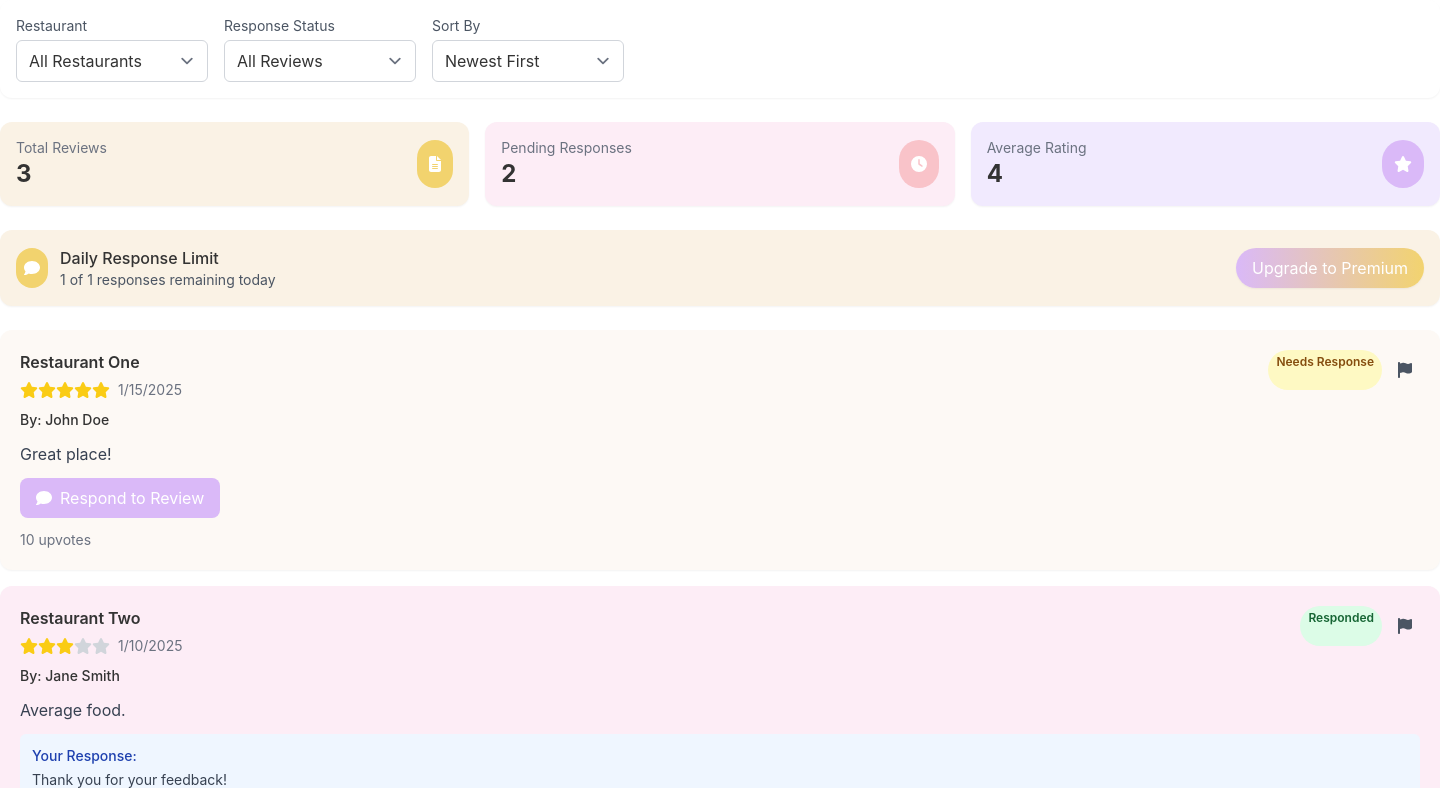
it: ReviewManagement Component › filters reviews by restaurant
Expected: the text "Great place!" is shown, [20,444,112,464]
Note: Select filter for Restaurant One
Select "Restaurant One" in the dropdown labelled "Restaurant" at {"x": 112, "y": 61}, box [16,40,208,82]
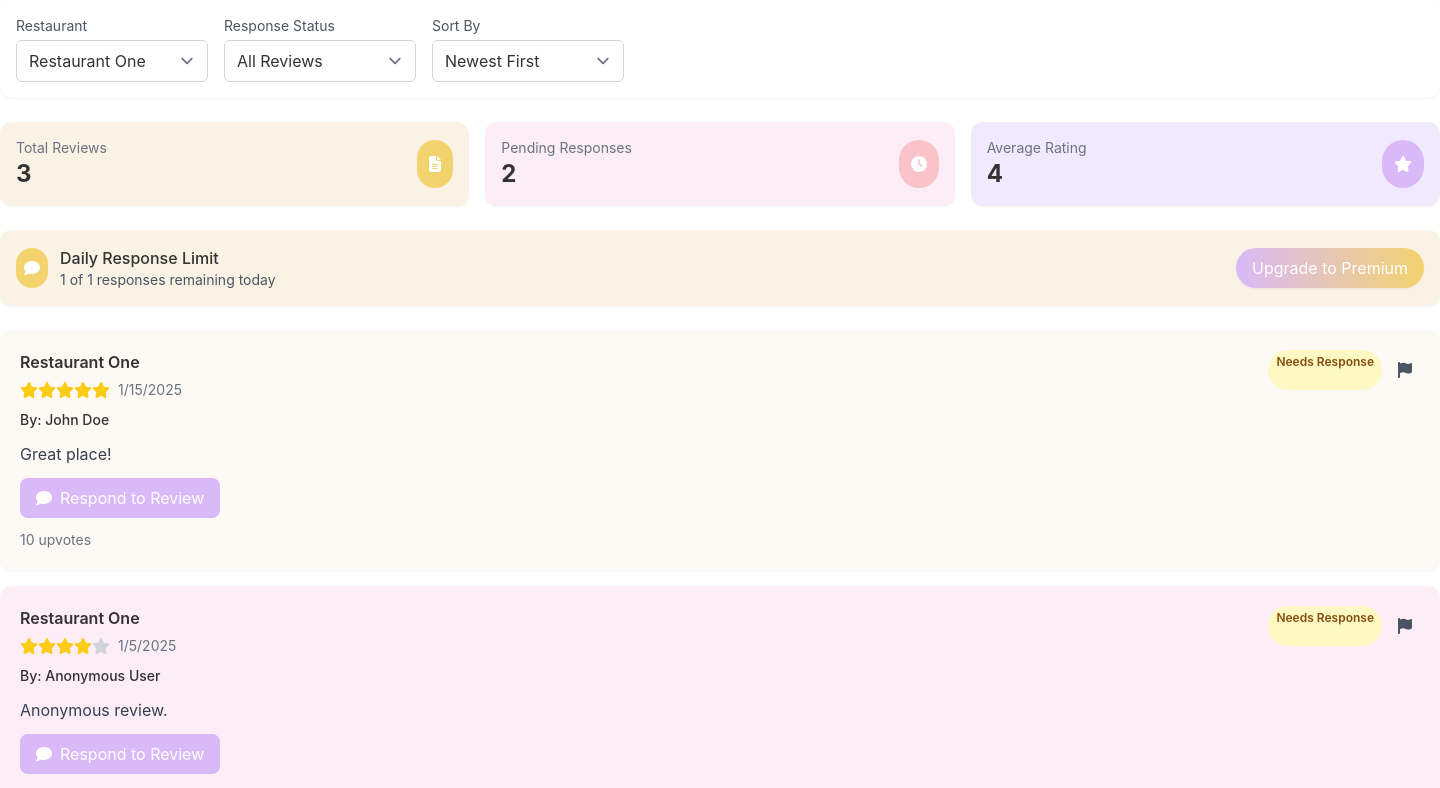
Expected: the text "Great place!" is shown, [20,444,112,464]
Now the text "Average food." is gone
